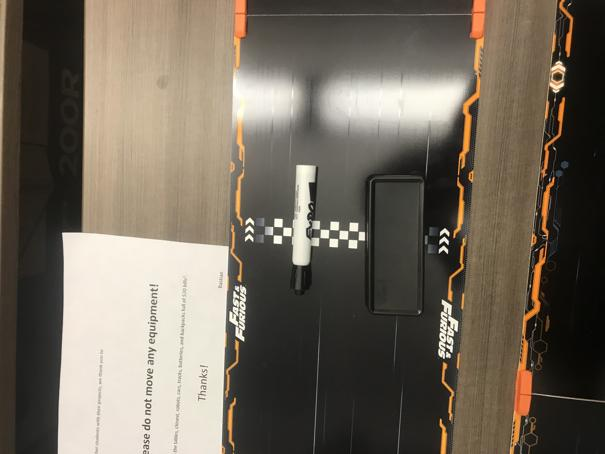Finish Line: (245, 217, 451, 256)
